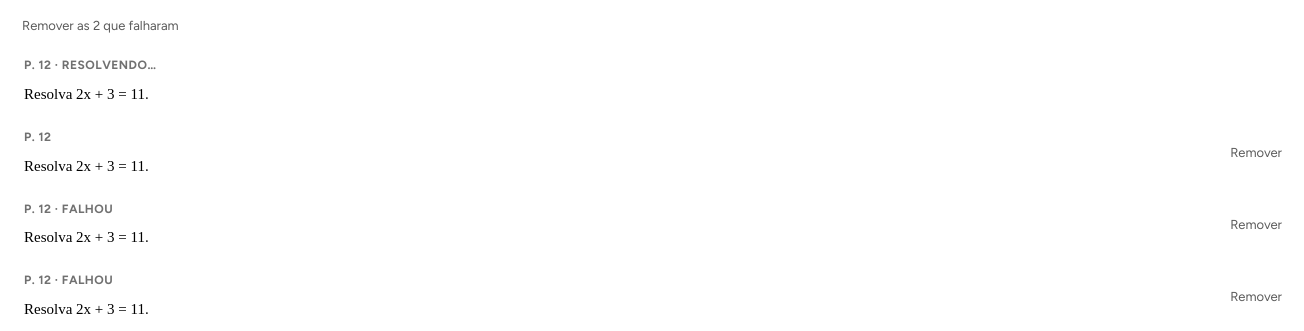
Test: lista: remove as que falharam de uma vez; a que está resolvendo não pode ser removida
What coordinates should you click on to do the following:
click the button "Remover as 2 que falharam"
I would click on:
 (100, 26)
Its box is [12,12,189,39].
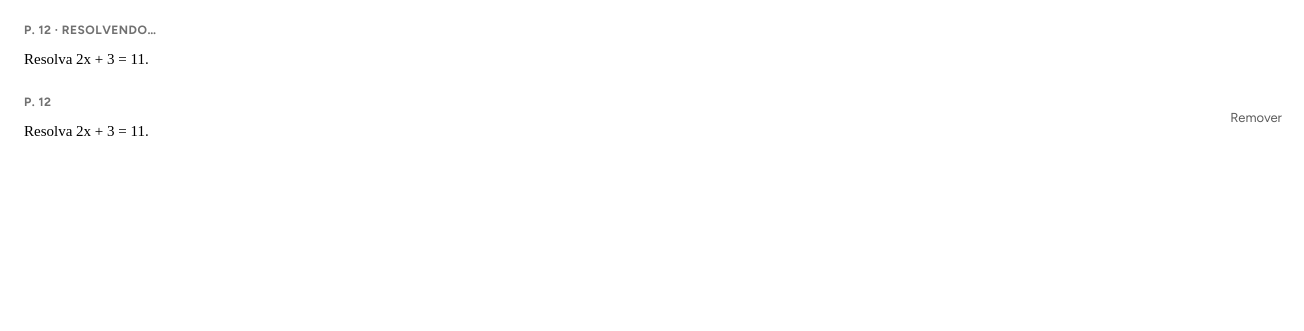
Result: the button "falhou" is gone
Result: the number of buttons named "Remover:" is 1 at [1220,104,1292,131]
